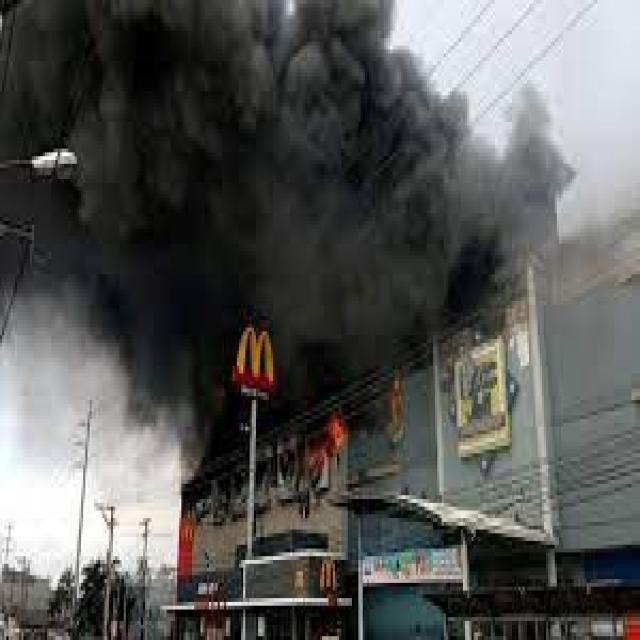Fire: (314, 404, 352, 484)
Smoke: (74, 2, 483, 390)
